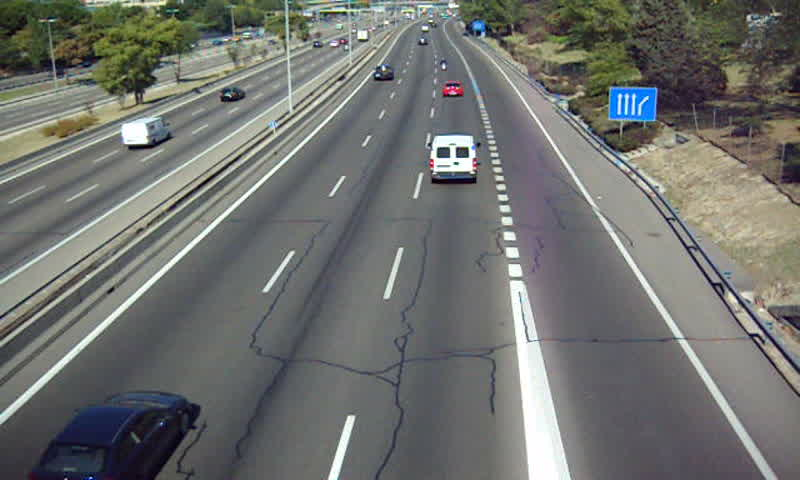car: (29, 392, 195, 480), (443, 80, 465, 98), (373, 65, 394, 82)
motorcycle: (437, 58, 450, 70)
van: (430, 135, 478, 180)
